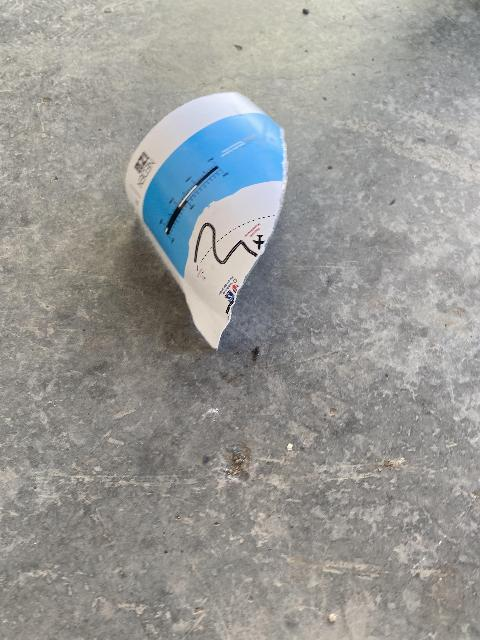Kagit: (95, 86, 303, 348)
